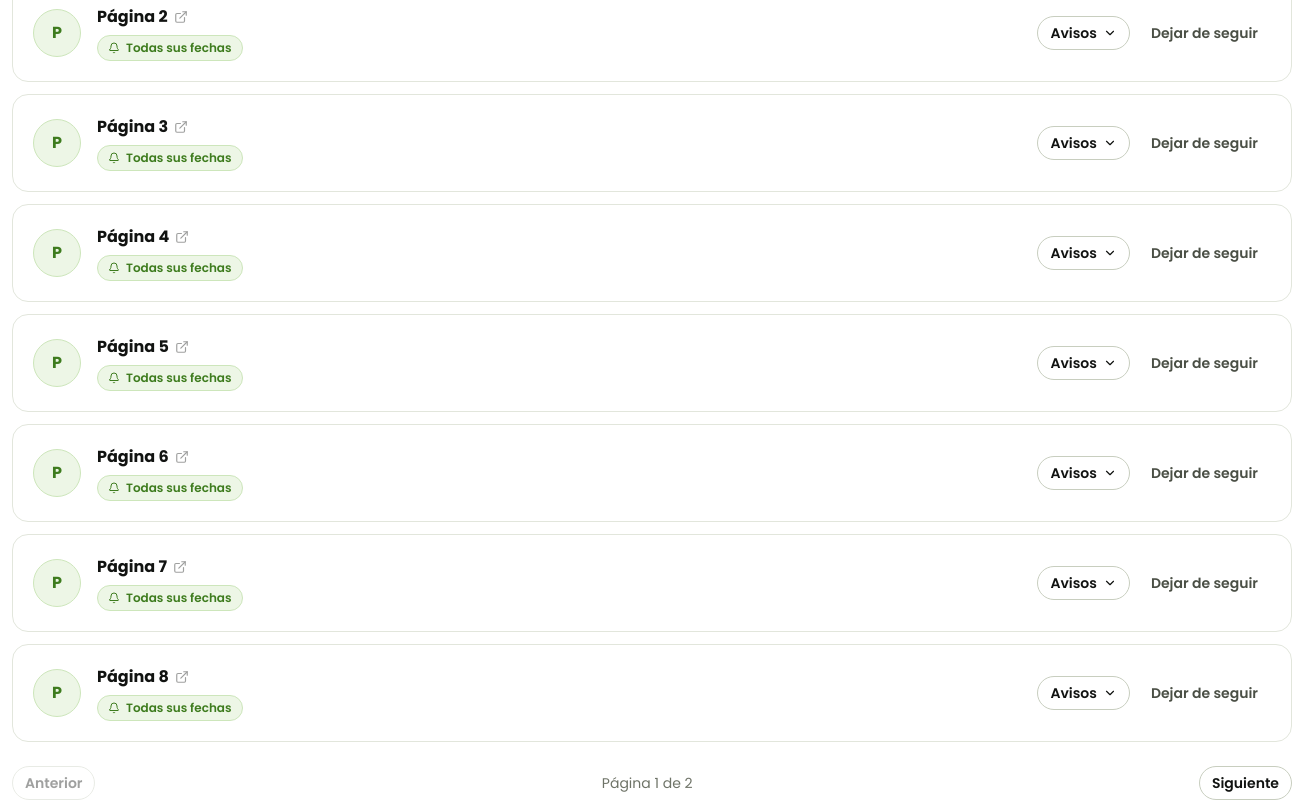
Scenario: FollowingManager › paginación › avanza a la página siguiente
(page scrolled)
Click the button "Siguiente" at (1246, 783), box [1199,766,1292,799]
(page scrolled)
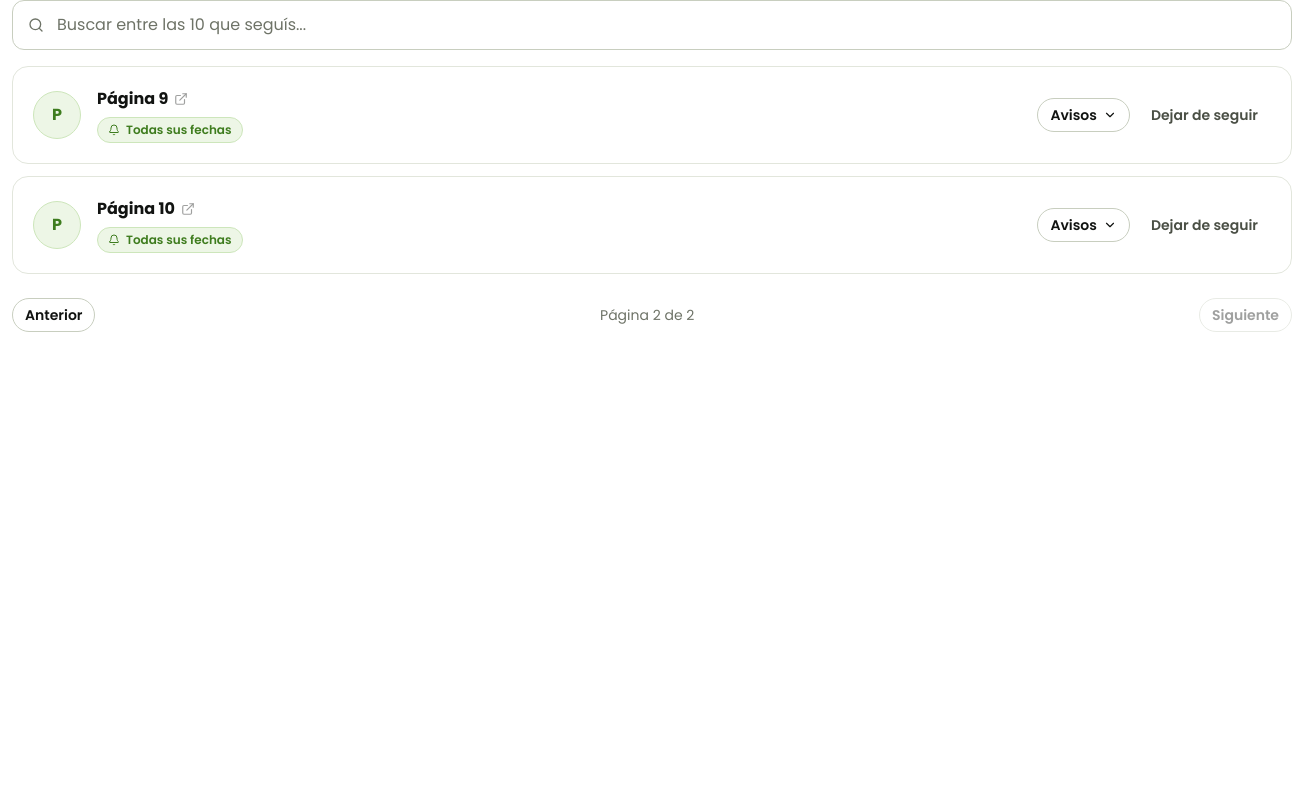
Expected: the text "Página 9" is shown, [97,87,168,111]
